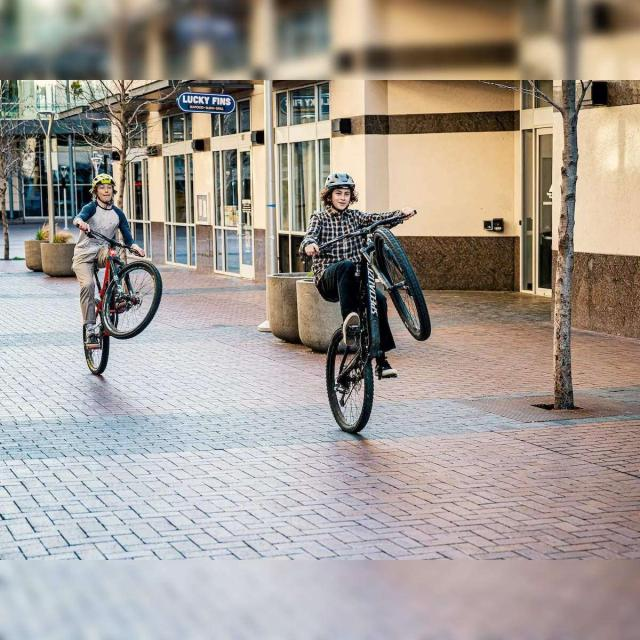bicycle: (300, 172, 431, 433), (72, 174, 162, 373)
